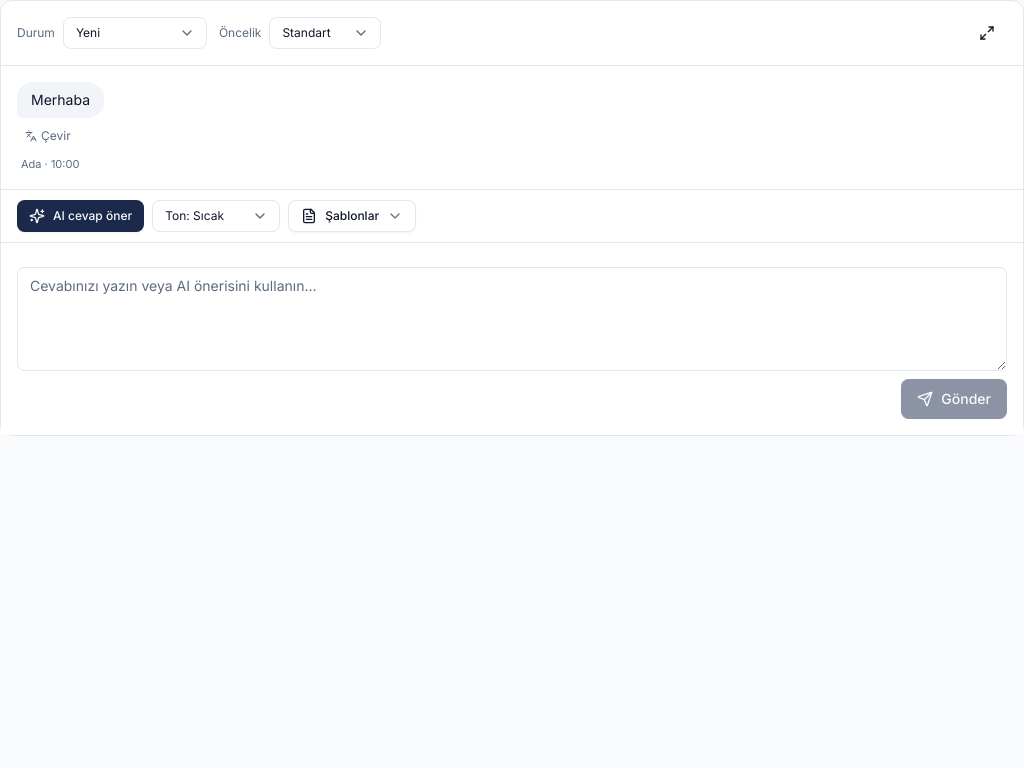
şablon seçici — sayfalı liste + seçilince tam metin › tam metin okunamazsa mesaj kutusuna dokunulmaz, panel açık kalır, sebep duyurulur; silinmiş şablon listeden düşer
Step 1. Click the button "Şablonlar" → (352, 216), box [288,200,416,232]
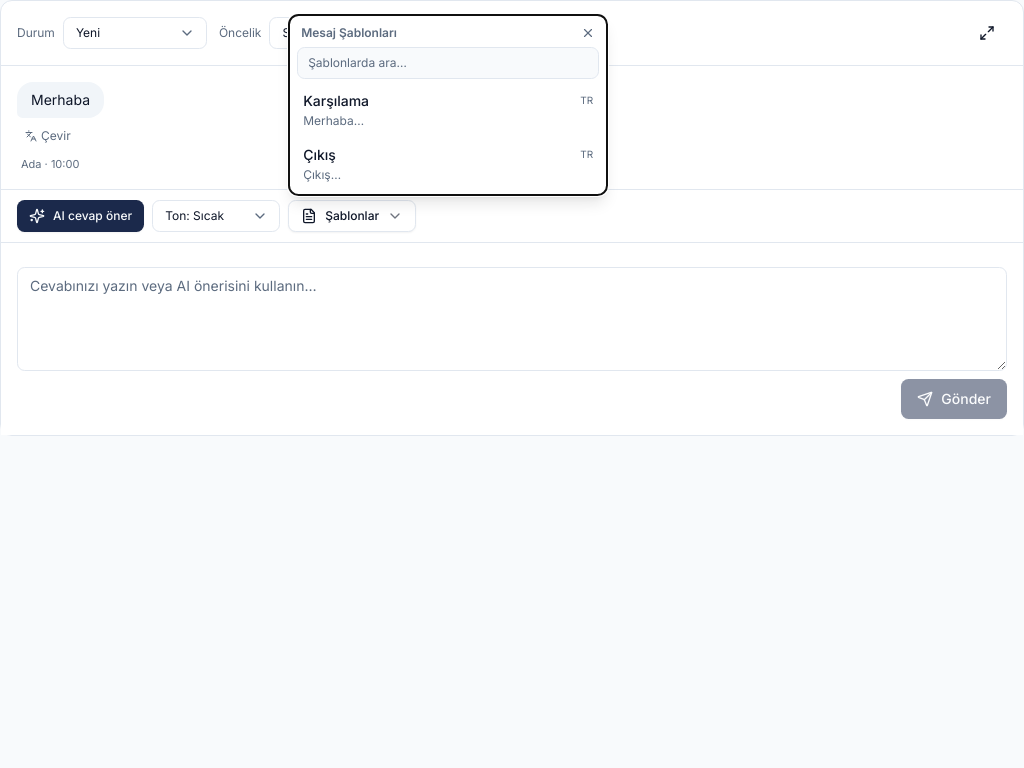
Now the dialog shows "Çıkış", box [293,136,603,190]
Step 2. Type "Benim taslağım" into the text box named "Misafire cevabınız" → (512, 318), box [17,266,1007,370]
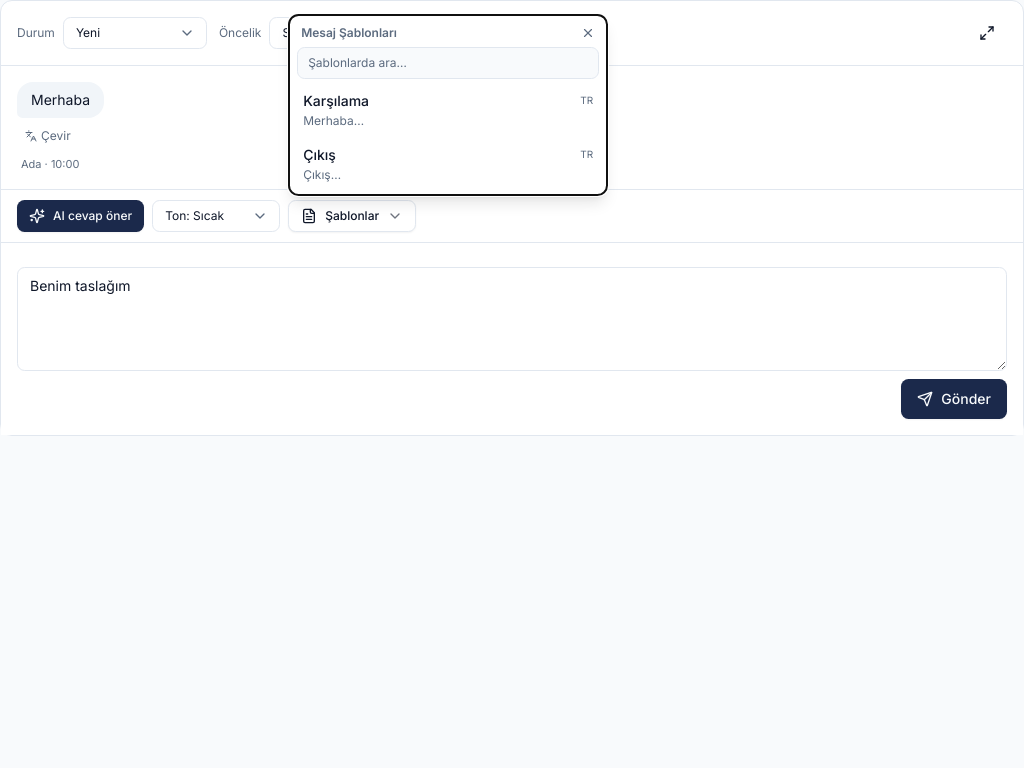
Step 3. Click the button "Çıkış tr Çıkış…" → (319, 154), box [293,136,603,190]
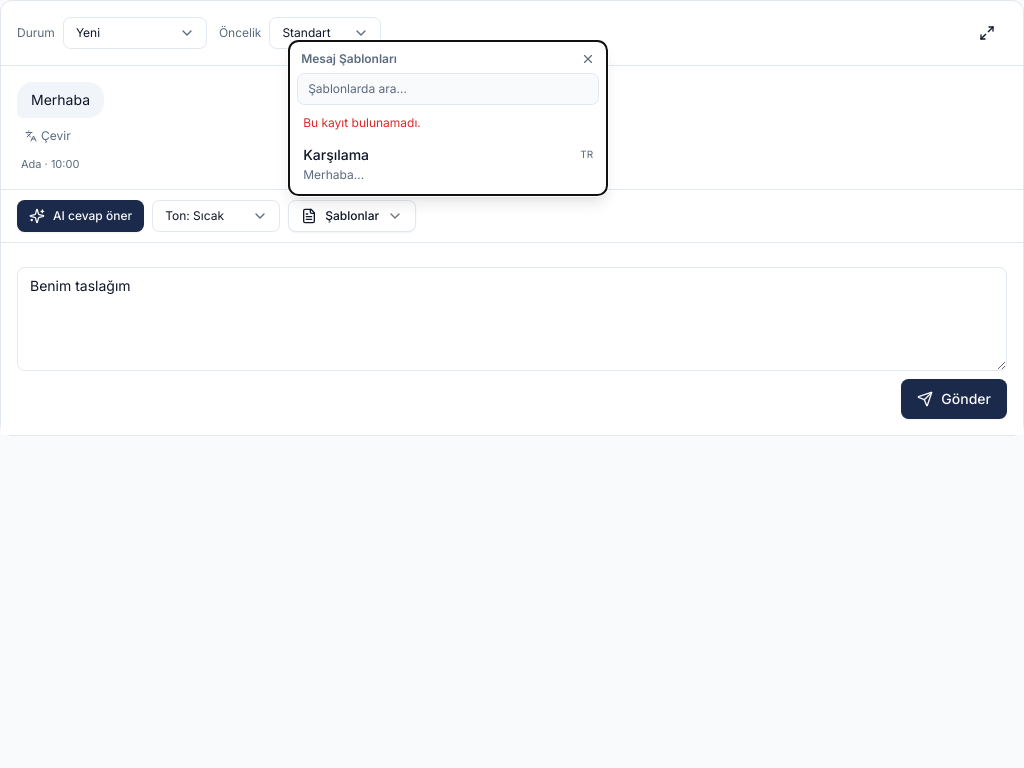
Now the dialog is shown, box [288,40,608,196]
Now the button "Çıkış" is gone
